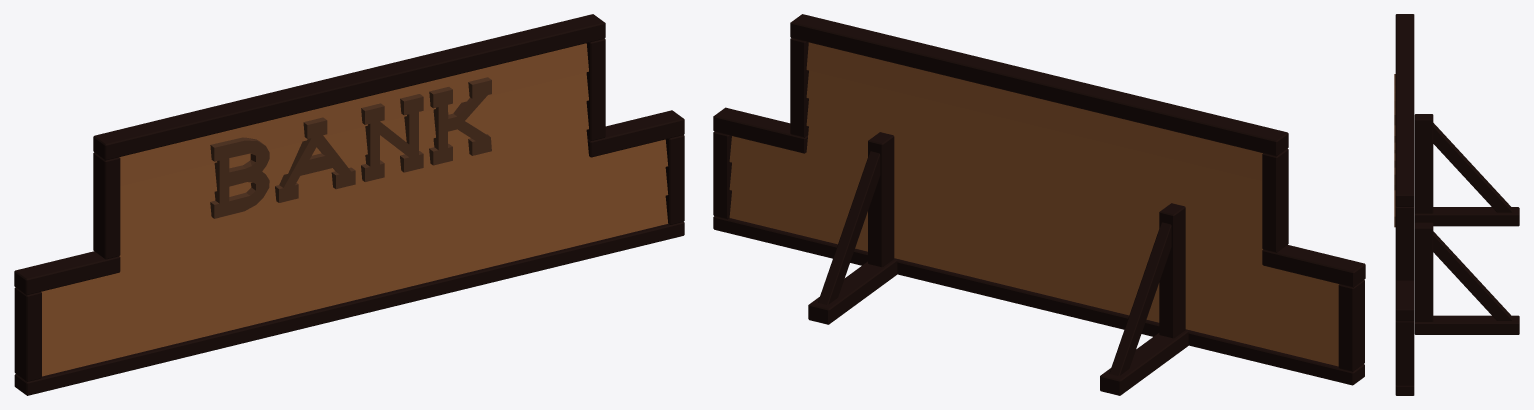
File: ww_bank_sign_c.glb
The picture shows the model from 3 angles, left to right: view 1: azimuth 30°, elevation 25°; view 2: azimuth 150°, elevation 25°; view 3: azimuth 270°, elevation 25°; orthographic projection. The views are drawn at different scales.
Parts seen in each view (by area): view 1: Bank_Sign_C; view 2: Bank_Sign_C; view 3: Bank_Sign_C.
Part boxes in pixels (left/top/right/bottom): Bank_Sign_C: left=14, top=14, right=684, bottom=395; Bank_Sign_C: left=713, top=14, right=1365, bottom=395; Bank_Sign_C: left=1394, top=14, right=1519, bottom=395.
Bounding box in the file's own units: 10.56 × 3.56 × 2.34.
